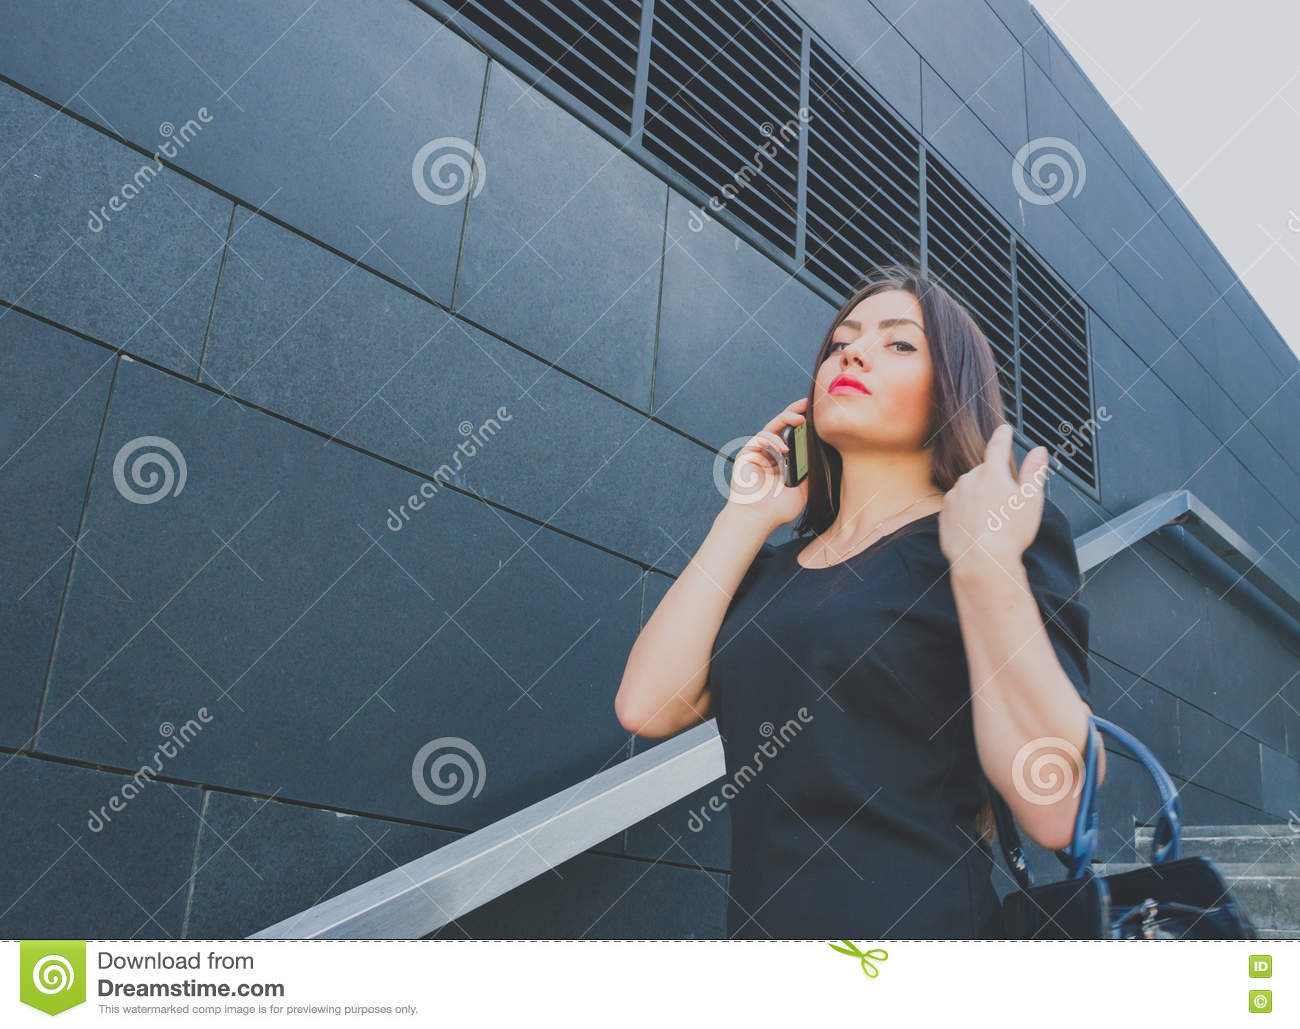phone: (786, 412, 811, 491)
talk: (719, 297, 928, 544)
